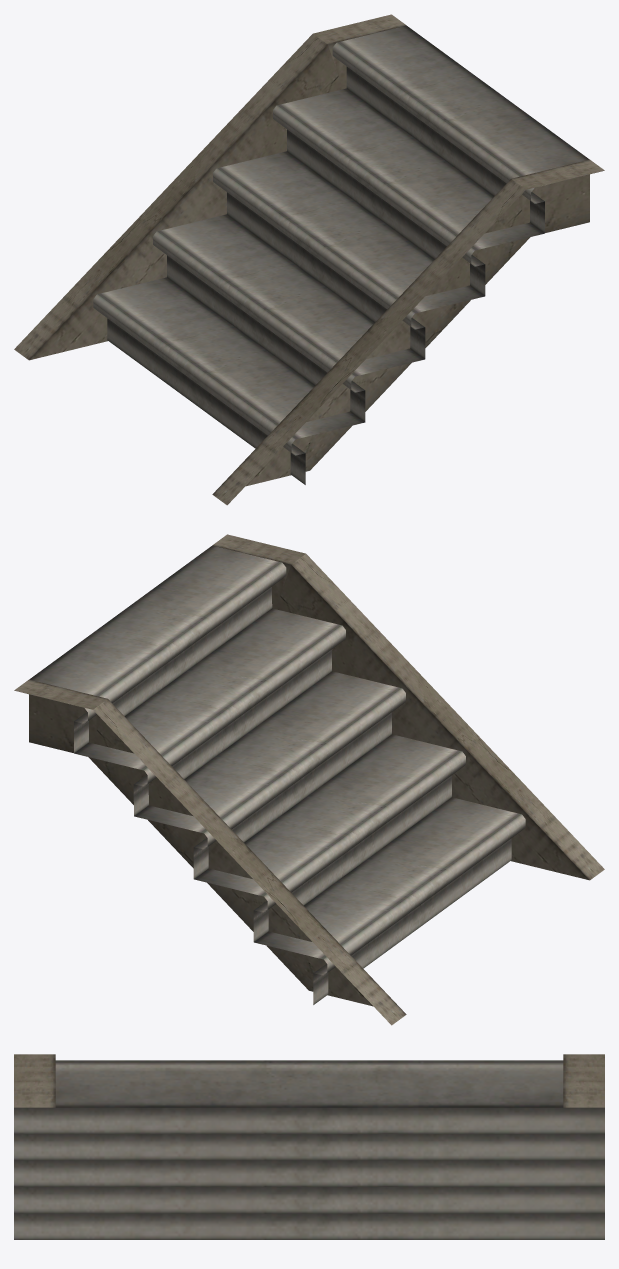
The model's file is stairs_attic_01.DAE.
3 views of the same model, one above another, from view 1: azimuth 30°, elevation 25°; view 2: azimuth 150°, elevation 25°; view 3: azimuth 270°, elevation 25° (orthographic). The views are drawn at different scales.
Parts seen in each view (by area): view 1: Box002; view 2: Box002; view 3: Box002.
Boxes of the visible parts, x1,y1,x2,y2 form: Box002: (14,14,604,505); Box002: (14,534,604,1025); Box002: (14,1054,604,1239).
Size of the model in its own units: 2.04 by 1.26 by 2.
